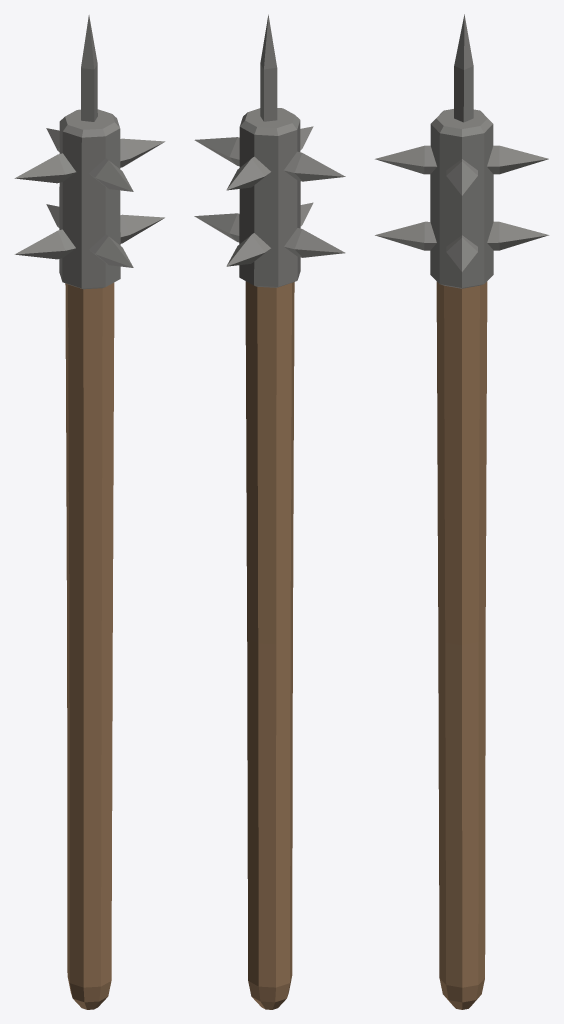
Rendered from SM_pwe_medieval_club_04.fbx.
The picture shows the model from 3 angles, left to right: view 1: azimuth 30°, elevation 25°; view 2: azimuth 150°, elevation 25°; view 3: azimuth 270°, elevation 25°; orthographic projection.
Visible parts, largest first — view 1: SM_pwe_medieval_club_04; view 2: SM_pwe_medieval_club_04; view 3: SM_pwe_medieval_club_04.
Part boxes in pixels (x1,y1,x2,y2): SM_pwe_medieval_club_04: (14,15,165,1009); SM_pwe_medieval_club_04: (194,14,345,1009); SM_pwe_medieval_club_04: (375,14,549,1009).
Size of the model in its own units: 17.27 by 108 by 17.27.
